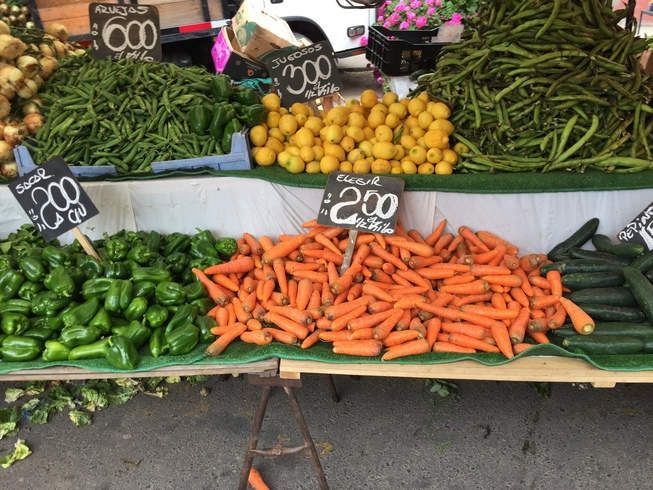precio: (8, 159, 98, 243), (317, 163, 408, 245), (264, 41, 352, 116), (86, 3, 159, 70), (611, 196, 653, 258)
